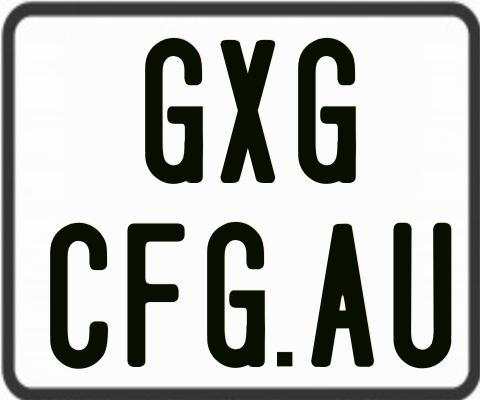A: (311, 224, 377, 370)
C: (47, 223, 106, 375)
F: (124, 220, 188, 369)
G: (145, 36, 206, 188), (297, 36, 359, 182), (205, 221, 265, 367)
U: (390, 221, 448, 369)
X: (220, 38, 279, 186)
